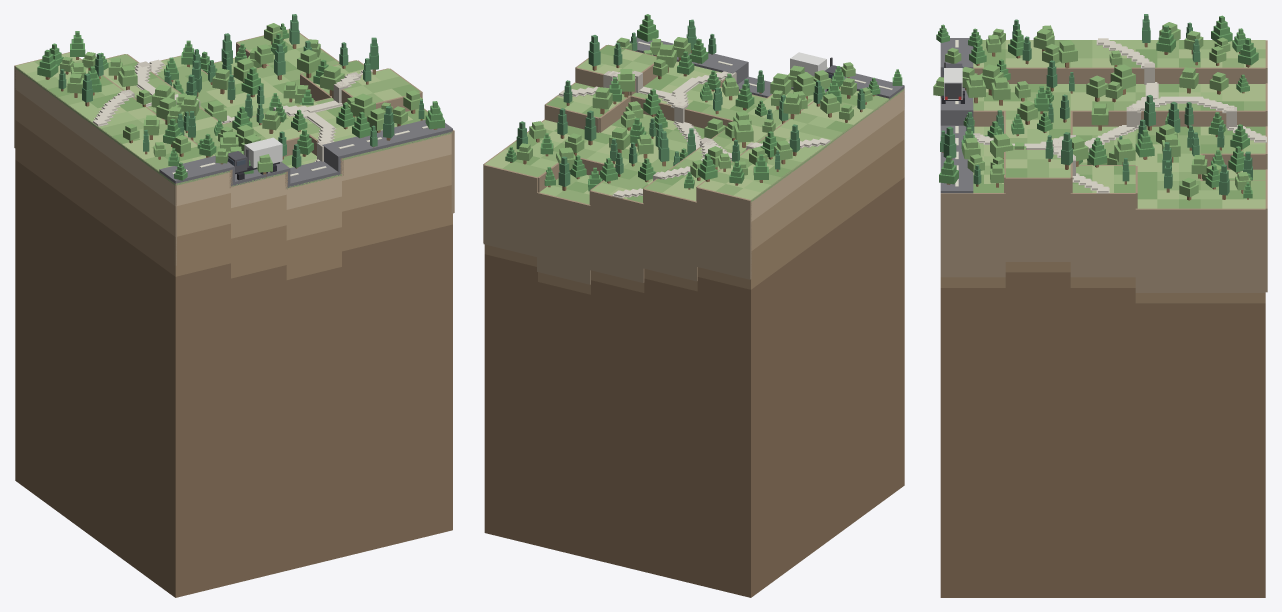
File: block_3_greenfacade_0.glb
3 renders of one model, left to right at view 1: azimuth 30°, elevation 25°; view 2: azimuth 150°, elevation 25°; view 3: azimuth 270°, elevation 25°, orthographic. The views are drawn at different scales.
Parts seen in each view (by area): view 1: Patch_UpperLeft_b08_GF, Ghats_UpperLeft_b08_GF, Roads_UpperLeft_b08_GF, ULCar_002_GF; view 2: Patch_UpperLeft_b08_GF, Ghats_UpperLeft_b08_GF, Roads_UpperLeft_b08_GF, ULCar_002_GF; view 3: Patch_UpperLeft_b08_GF, Ghats_UpperLeft_b08_GF, Roads_UpperLeft_b08_GF, ULCar_002_GF, ULG_T242_GF.
Part boxes in pixels (x1=…): Patch_UpperLeft_b08_GF: x1=15, y1=69, x2=452, y2=597; Ghats_UpperLeft_b08_GF: x1=14, y1=29, x2=454, y2=265; Roads_UpperLeft_b08_GF: x1=159, y1=120, x2=452, y2=188; ULCar_002_GF: x1=227, y1=137, x2=282, y2=180; Patch_UpperLeft_b08_GF: x1=484, y1=90, x2=904, y2=597; Ghats_UpperLeft_b08_GF: x1=483, y1=44, x2=904, y2=284; Roads_UpperLeft_b08_GF: x1=629, y1=36, x2=904, y2=99; ULCar_002_GF: x1=790, y1=52, x2=841, y2=90; Patch_UpperLeft_b08_GF: x1=940, y1=262, x2=1265, y2=597; Ghats_UpperLeft_b08_GF: x1=940, y1=38, x2=1267, y2=292; Roads_UpperLeft_b08_GF: x1=940, y1=38, x2=973, y2=193; ULCar_002_GF: x1=941, y1=62, x2=964, y2=103; ULG_T242_GF: x1=1110, y1=64, x2=1135, y2=94.
Bounding box in the file's own units: 9.55 × 14.72 × 9.76.
